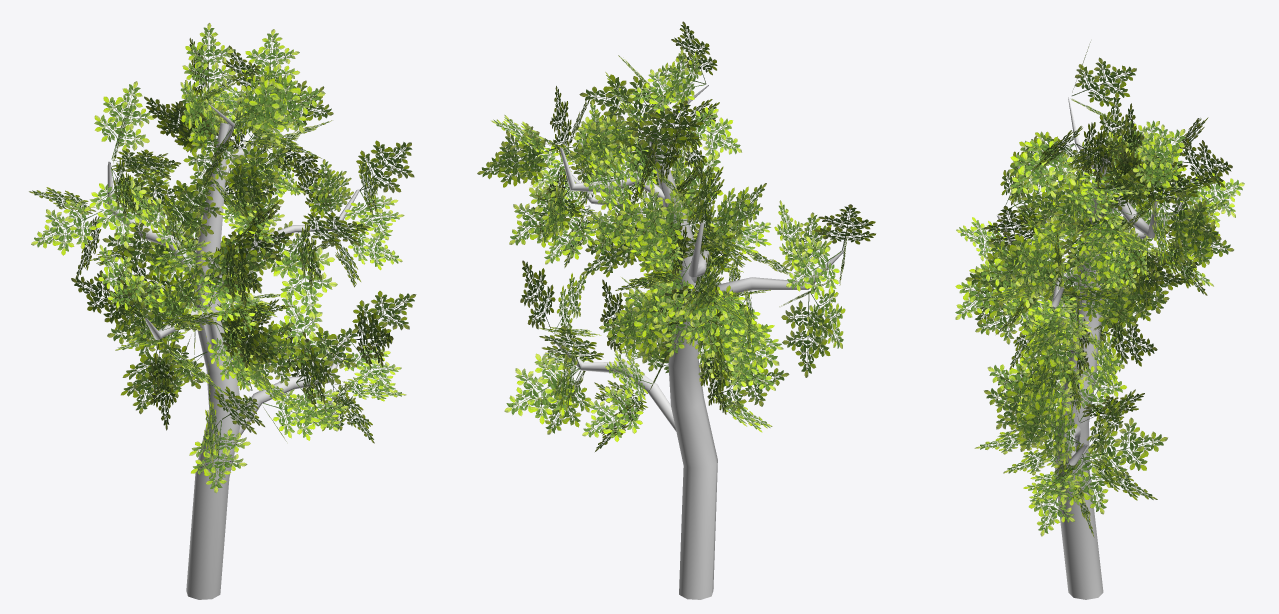
The model's file is Tree8.fbx.
3 renders of one model, left to right at view 1: azimuth 30°, elevation 25°; view 2: azimuth 150°, elevation 25°; view 3: azimuth 270°, elevation 25°, orthographic.
Visible parts, largest first — view 1: Tree8; view 2: Tree8; view 3: Tree8.
Part boxes in pixels (box(x1,y1,x2,y2)): Tree8: box(29, 23, 416, 599); Tree8: box(477, 21, 875, 599); Tree8: box(955, 42, 1244, 599).
Bounding box in the file's own units: 545 × 787 × 429.
